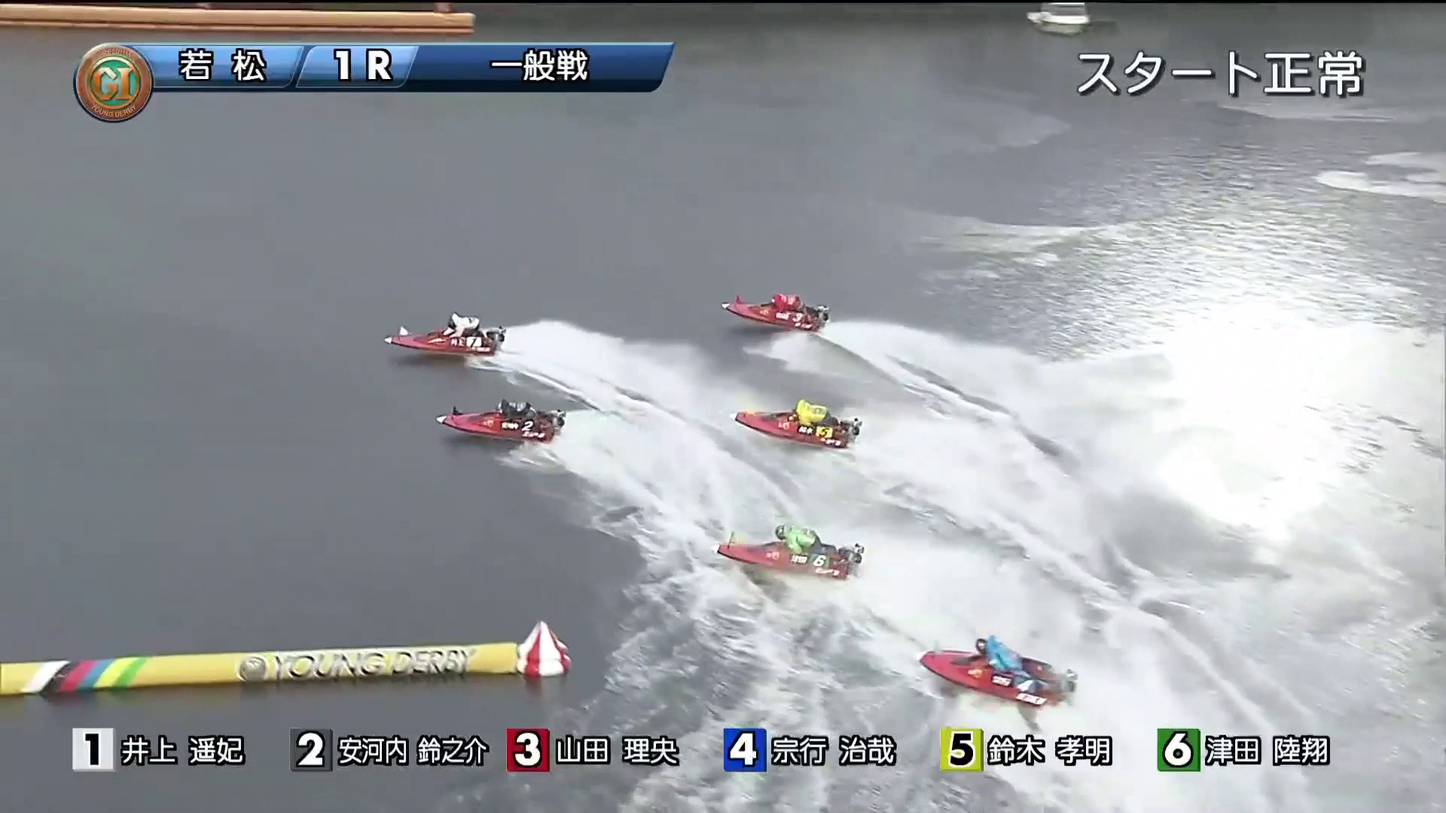１号艇: (409, 279, 479, 333)
２号艇: (425, 370, 554, 431)
３号艇: (747, 263, 845, 317)
４号艇: (734, 503, 868, 568)
５号艇: (942, 647, 1065, 702)
６号艇: (741, 357, 841, 437)
